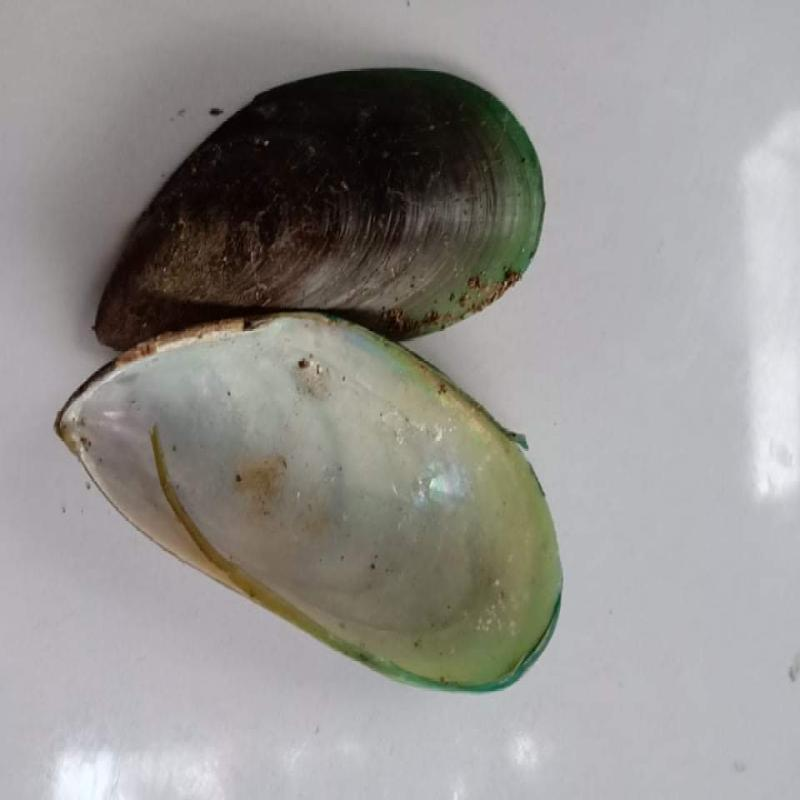left-over food: (54, 312, 565, 696), (92, 68, 547, 353)
